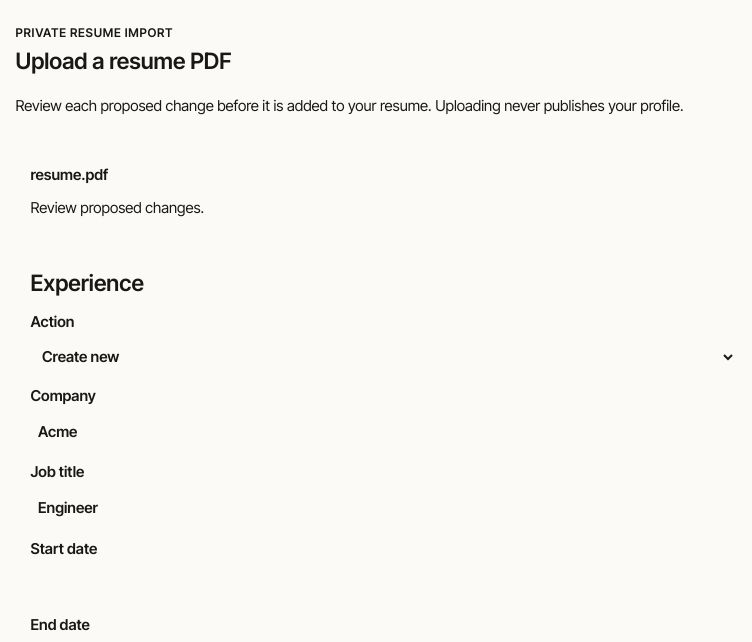
Test: ResumeImport browser behavior › reviews projects separately without exposing an editable parent identifier
Select "Skip" in the dropdown labelled "Action" at x=383, y=357, box [30,339,736,375]
(page scrolled)
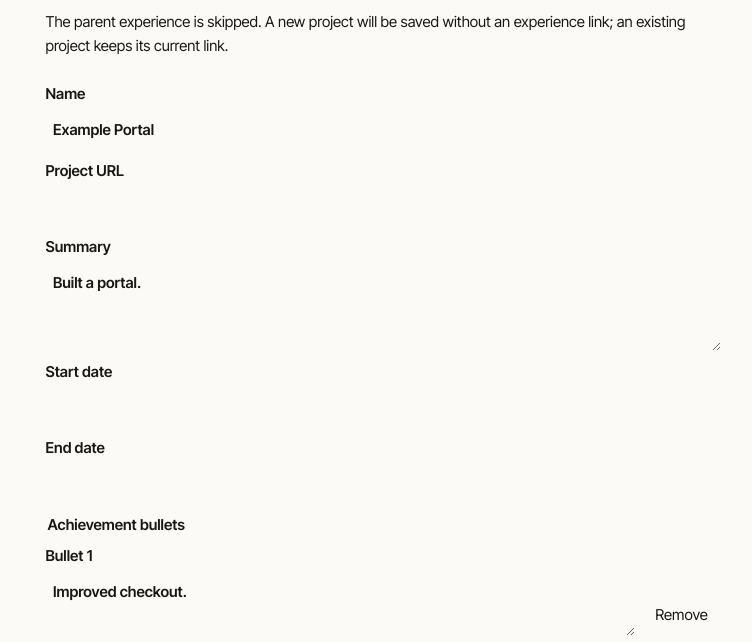
Check: the element that starts with "Example Portal" shows "saved without an experience link", box [46,12,685,55]
